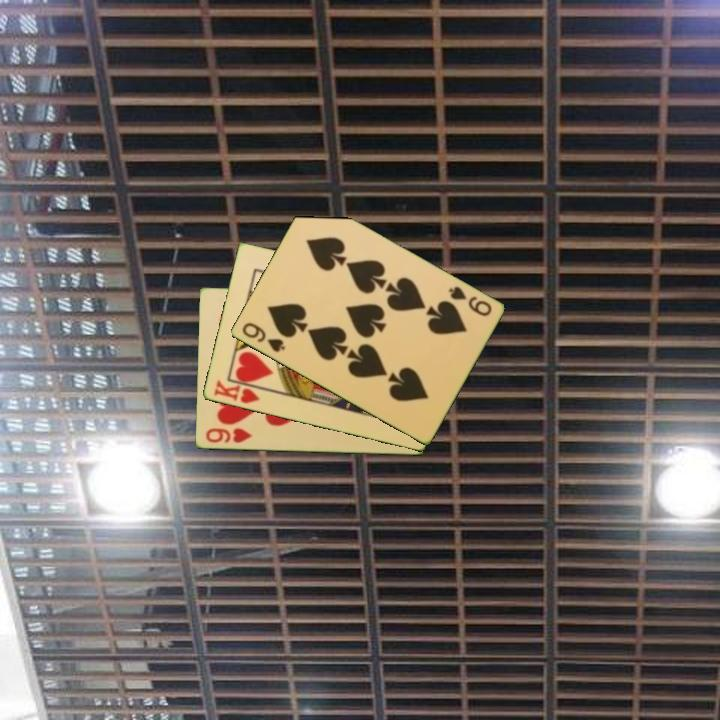9h: (202, 425, 254, 446)
9s: (238, 319, 288, 356), (444, 283, 494, 319)
Kh: (210, 377, 267, 407)
